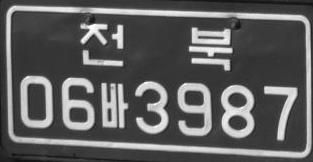0: (18, 74, 52, 128)
3: (135, 80, 168, 134)
6: (60, 75, 95, 130)
7: (263, 85, 298, 141)
8: (221, 83, 255, 138)
9: (175, 81, 212, 136)
바: (100, 82, 128, 128)
전북_D: (79, 21, 234, 76)
